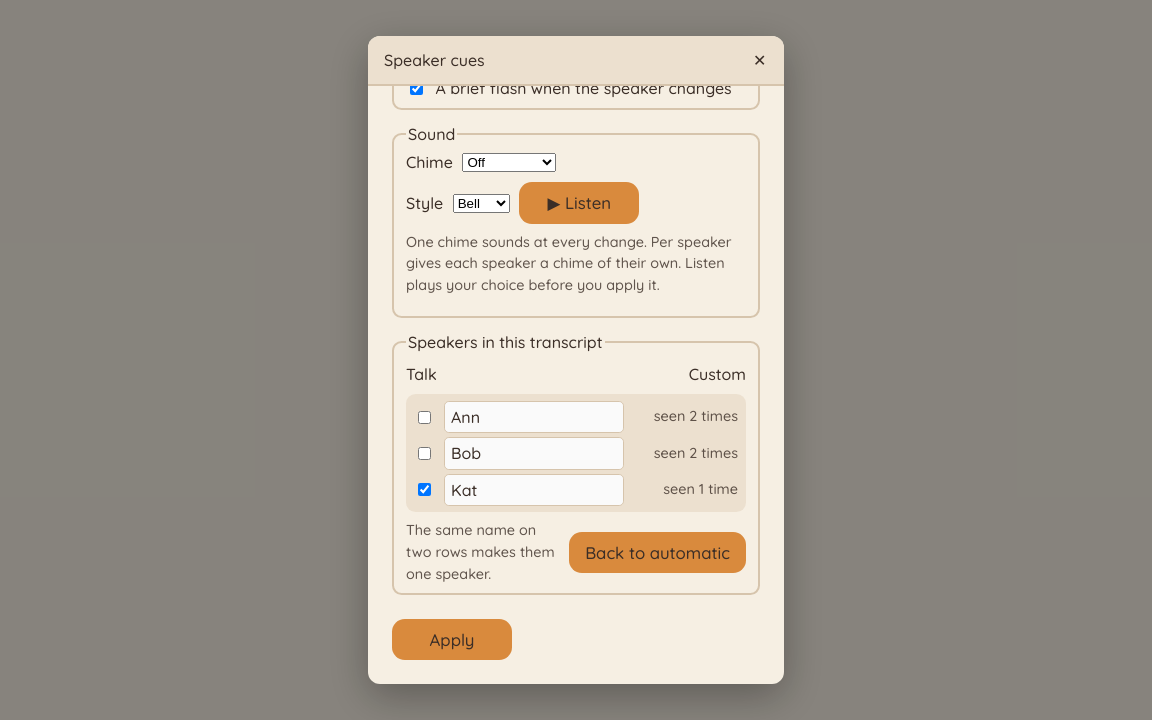
Scenario: the speaker list › back_to_automatic_puts_every_row_back
(page scrolled)
Click the button "Back to automatic": point(658, 553) [569,532,746,573]
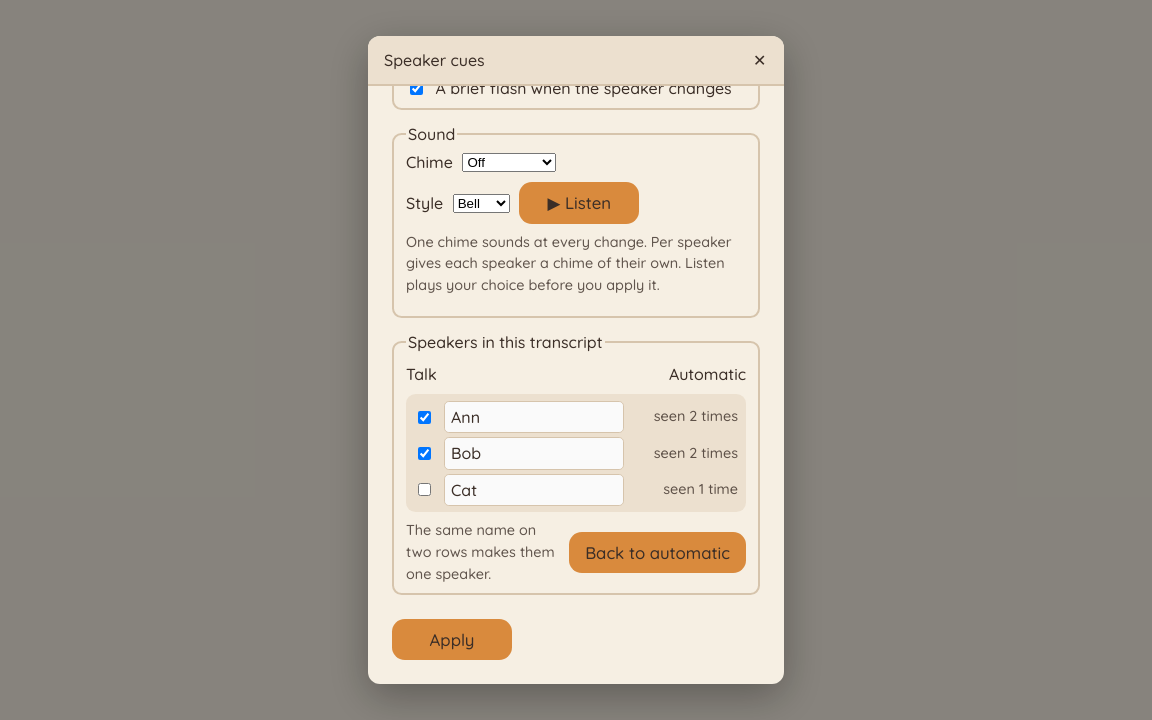
Expected: the text with test id "list-mode" reads "Automatic", [669,364,746,384]
